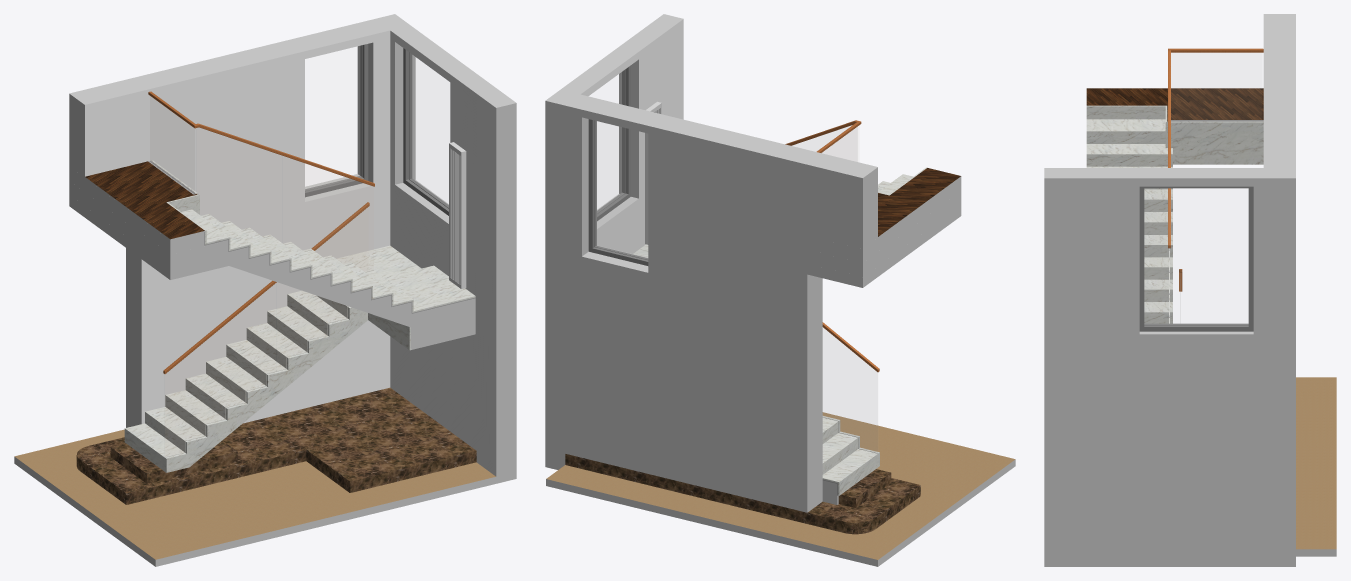
File: 3D Деталь 1.gltf
3 renders of one model, left to right at view 1: azimuth 30°, elevation 25°; view 2: azimuth 150°, elevation 25°; view 3: azimuth 270°, elevation 25°, orthographic. The views are drawn at different scales.
Bounding box in the file's own units: 5.29 × 5.26 × 3.59.
Materials: 270 (5 with a texture image).
